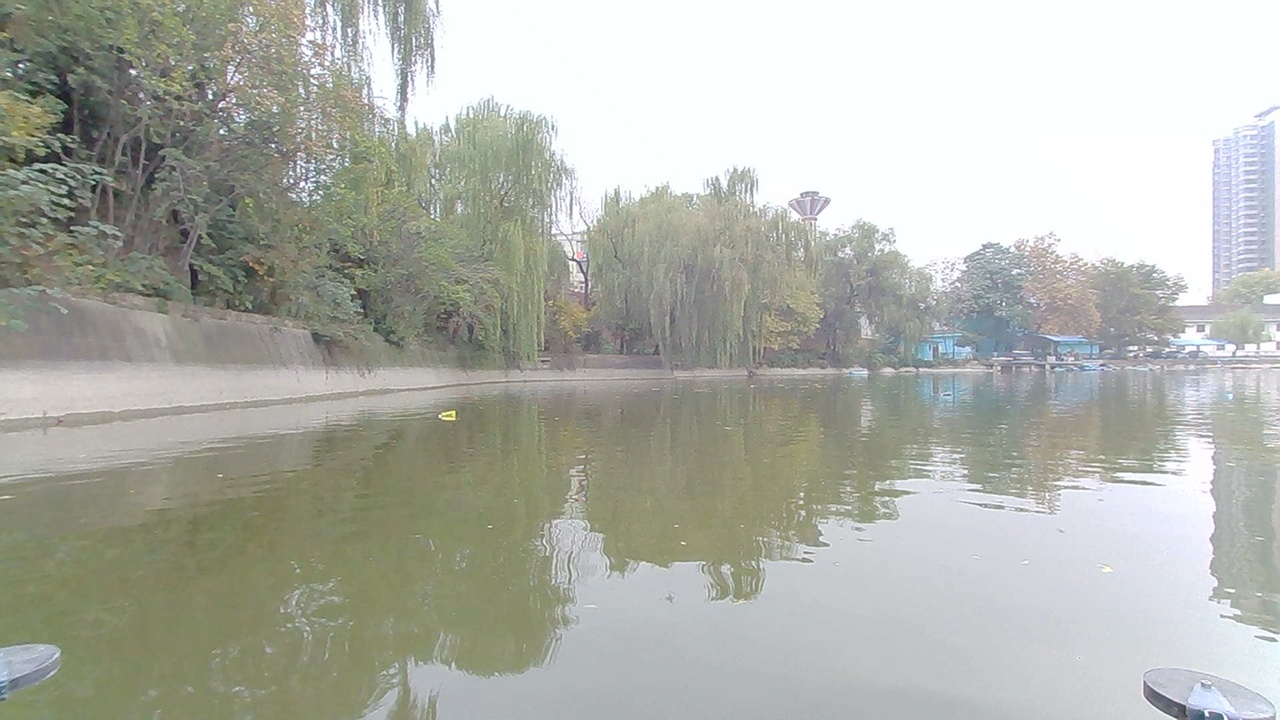bottle: (433, 405, 467, 428), (935, 387, 964, 402)
